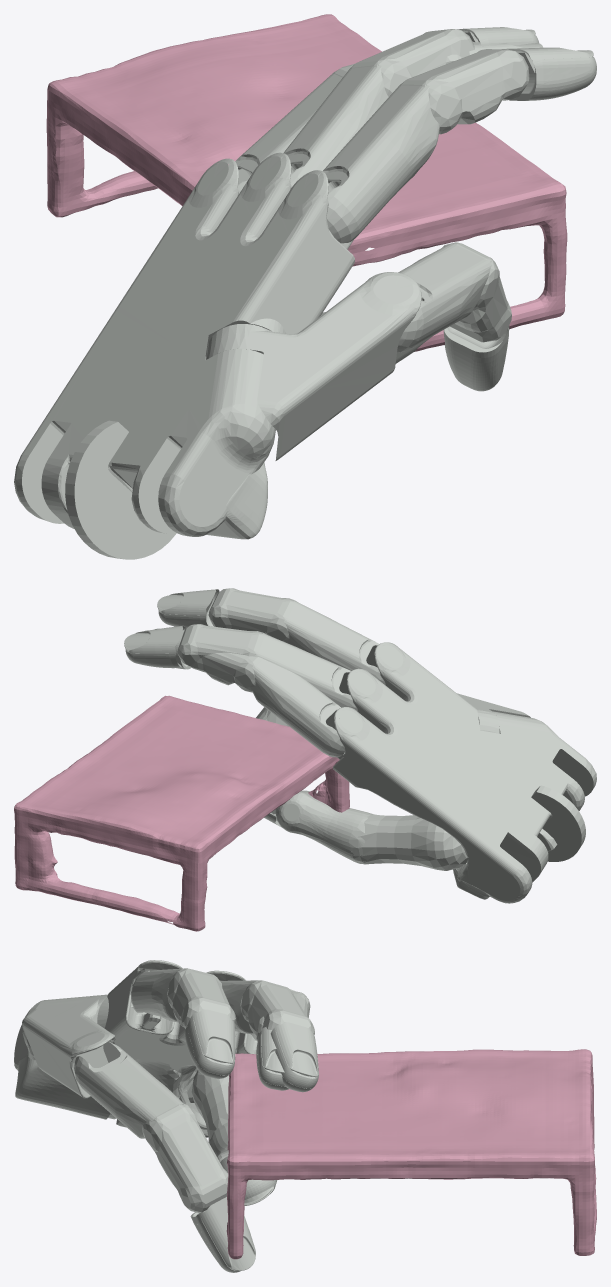
3 views of the same model, one above another, from view 1: azimuth 30°, elevation 25°; view 2: azimuth 150°, elevation 25°; view 3: azimuth 270°, elevation 25° (orthographic). The views are drawn at different scales.
Parts seen in each view (by area): view 1: hand, world; view 2: hand, world; view 3: world, hand.
Part boxes in pixels (box(x1,y1,x2,y2)): hand: box(14, 27, 596, 559); world: box(46, 14, 567, 351); hand: box(124, 588, 596, 903); world: box(14, 695, 349, 931); world: box(226, 1049, 596, 1259); hand: box(14, 960, 318, 1272).
Size of the model in its own units: 0.1872 by 0.1127 by 0.2077.
